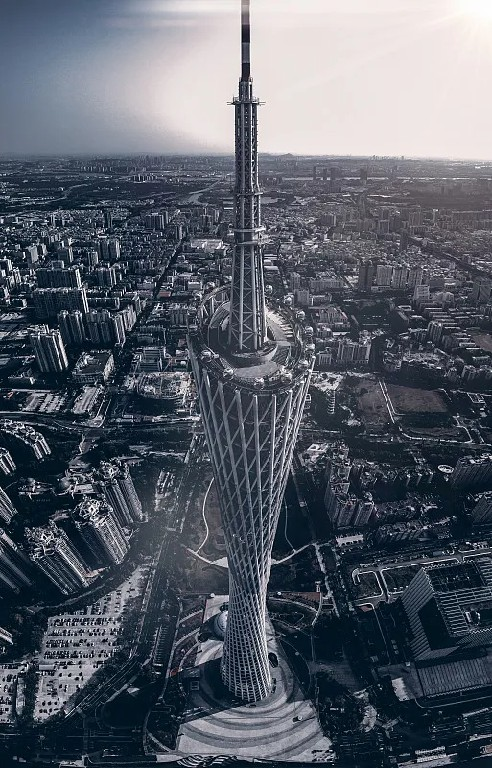Canton: (174, 1, 320, 715)
